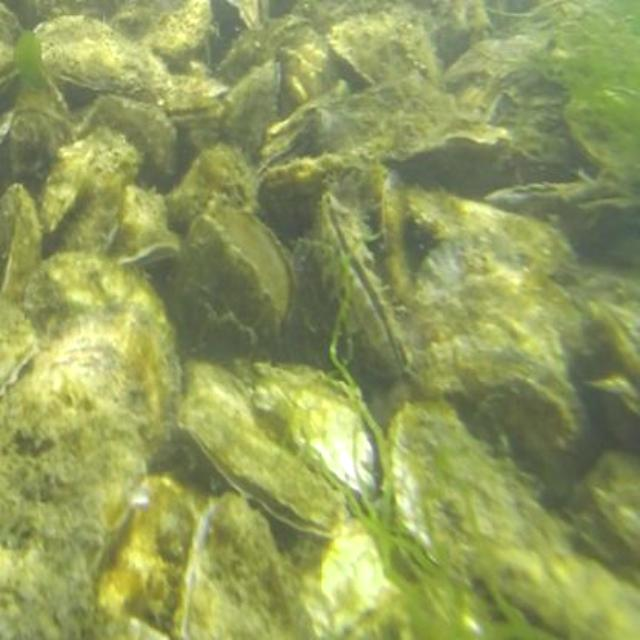Oyster-Closed: (0, 252, 183, 638), (394, 408, 579, 564), (404, 343, 586, 478), (415, 238, 573, 385), (180, 494, 320, 638), (84, 478, 197, 638), (172, 215, 285, 360), (38, 16, 171, 100), (213, 207, 297, 327), (77, 96, 181, 191), (261, 159, 374, 244), (104, 0, 217, 60), (10, 106, 76, 206), (221, 62, 283, 166), (332, 14, 416, 86), (0, 185, 45, 303), (118, 190, 185, 268), (381, 171, 414, 310), (594, 449, 638, 536), (0, 292, 36, 397)
Oyster-Open: (181, 363, 350, 542), (316, 193, 407, 375), (40, 129, 141, 253), (485, 180, 626, 211), (255, 117, 324, 180), (594, 307, 638, 385), (169, 100, 226, 128)
